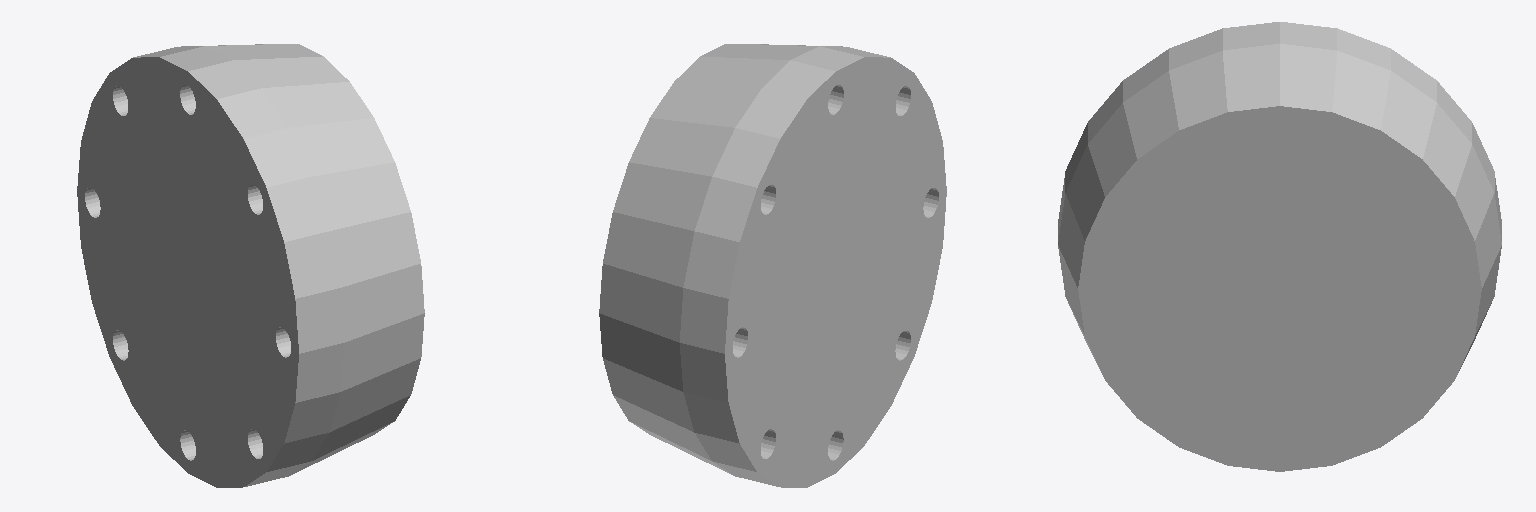
File: Axis6.obj
3 views of the same model, side by side, from view 1: azimuth 30°, elevation 25°; view 2: azimuth 150°, elevation 25°; view 3: azimuth 270°, elevation 25° (orthographic).
Visible parts, largest first — view 1: Mesh1 Group1 Model; view 2: Mesh1 Group1 Model; view 3: Mesh1 Group1 Model.
Boxes of the visible parts, box(x1,y1,x2,y2) form: Mesh1 Group1 Model: box(77, 44, 424, 487); Mesh1 Group1 Model: box(599, 44, 946, 487); Mesh1 Group1 Model: box(1058, 22, 1501, 471).
Bounding box in the file's own units: 0.015 × 0.0425 × 0.0425.